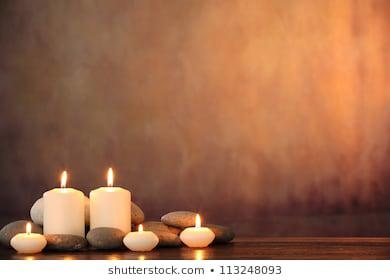fire: (57, 166, 70, 190), (103, 164, 116, 187), (191, 211, 202, 229), (22, 219, 34, 234), (134, 222, 144, 232)
